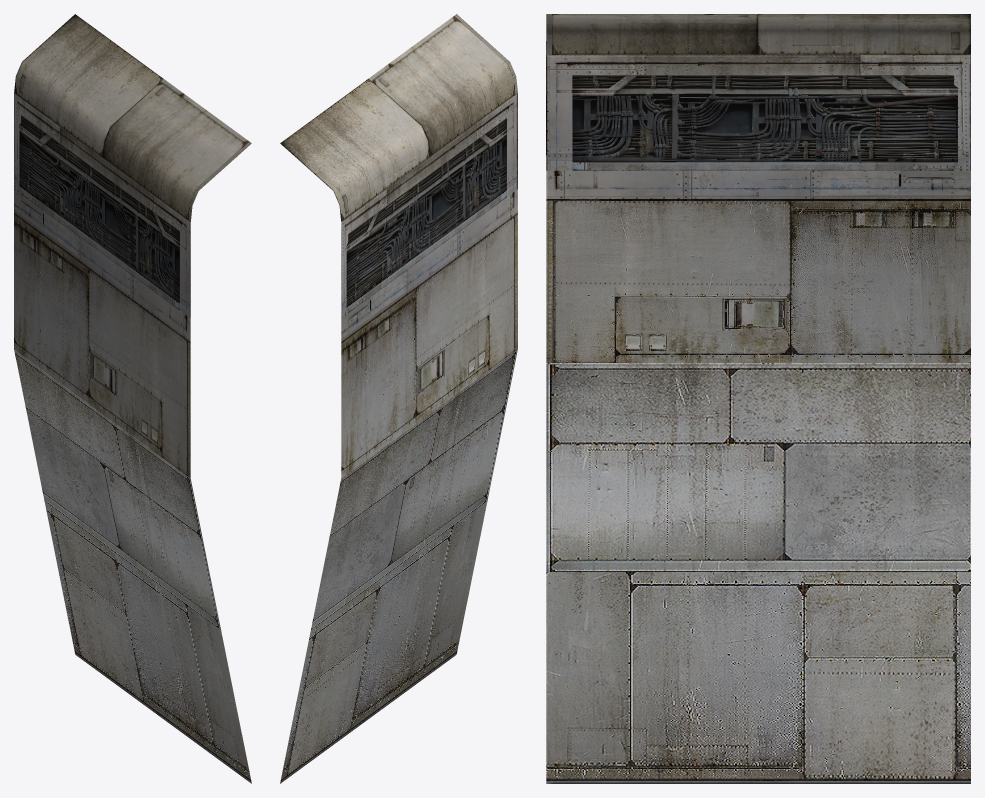
The model's file is Wall_I_Giant10mts_04.fbx.
The picture shows the model from 3 angles, left to right: view 1: azimuth 30°, elevation 25°; view 2: azimuth 150°, elevation 25°; view 3: azimuth 270°, elevation 25°; orthographic projection. The views are drawn at different scales.
Parts seen in each view (by area): view 1: Wall_I_Giant10mts_04; view 2: Wall_I_Giant10mts_04; view 3: Wall_I_Giant10mts_04.
Part boxes in pixels (box(x1,y1,x2,y2)): Wall_I_Giant10mts_04: box(14, 14, 251, 783); Wall_I_Giant10mts_04: box(280, 14, 517, 783); Wall_I_Giant10mts_04: box(546, 14, 970, 783).
Size of the model in its own units: 200 by 2000 by 1000.
Materials: 2 (2 with a texture image).
